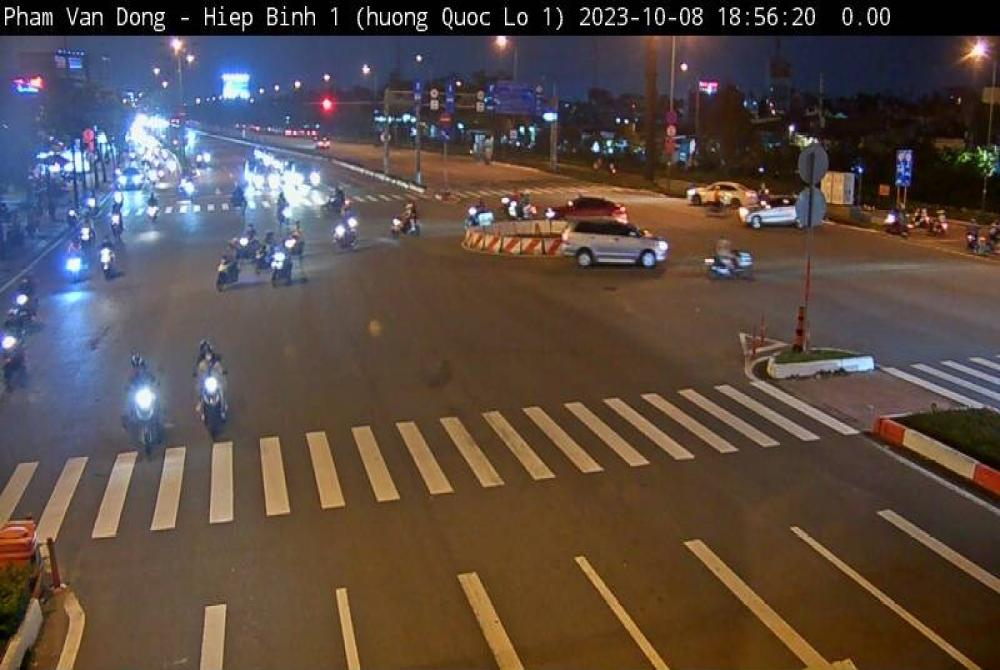car: (552, 214, 670, 284), (534, 187, 656, 242), (723, 187, 798, 234), (682, 175, 764, 212)
